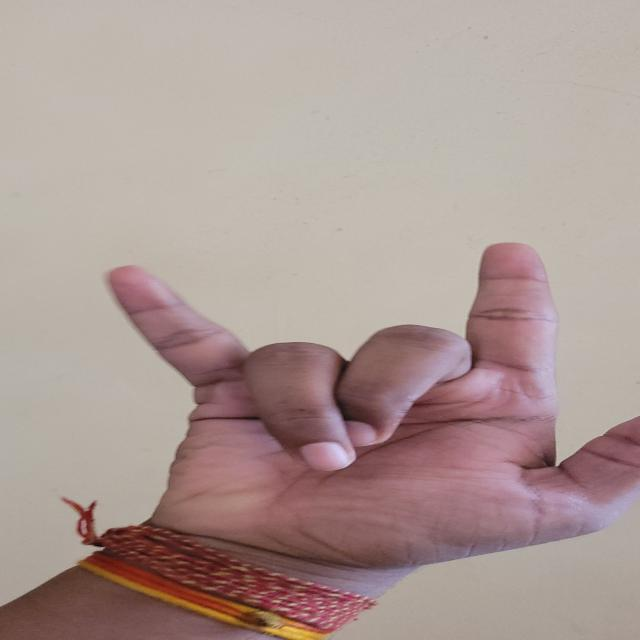i like you: (83, 244, 640, 596)
